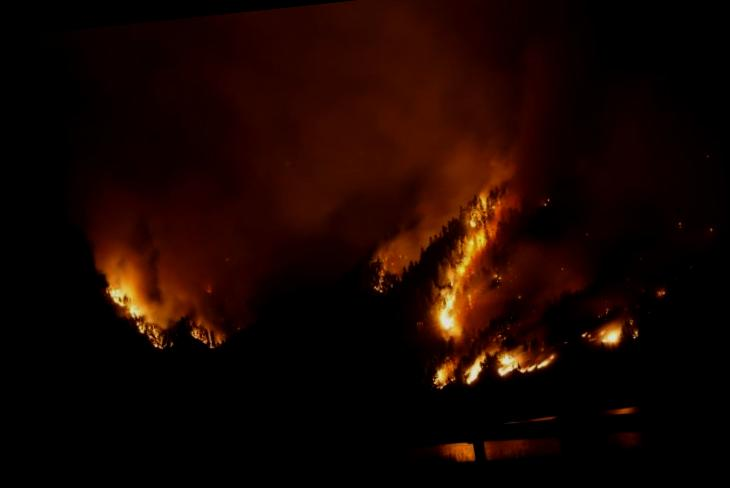fire: (423, 184, 522, 336), (96, 258, 169, 346), (491, 343, 559, 384), (428, 351, 461, 391), (464, 347, 490, 386)
